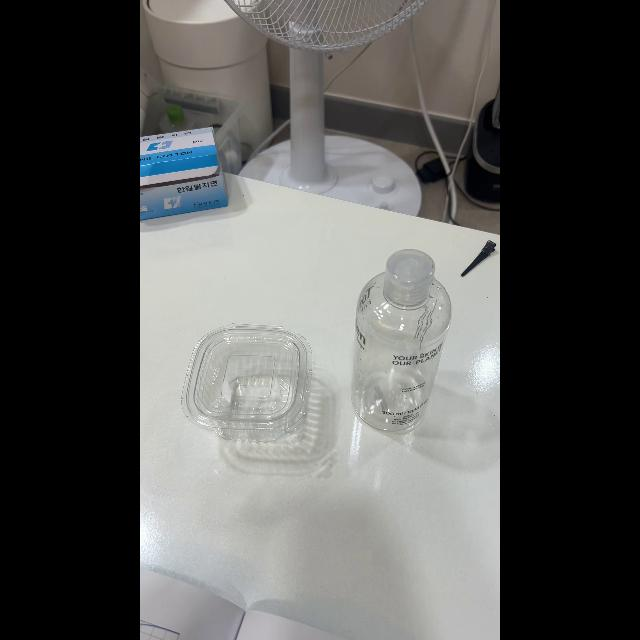clean: (353, 256, 451, 434), (184, 325, 312, 439)
